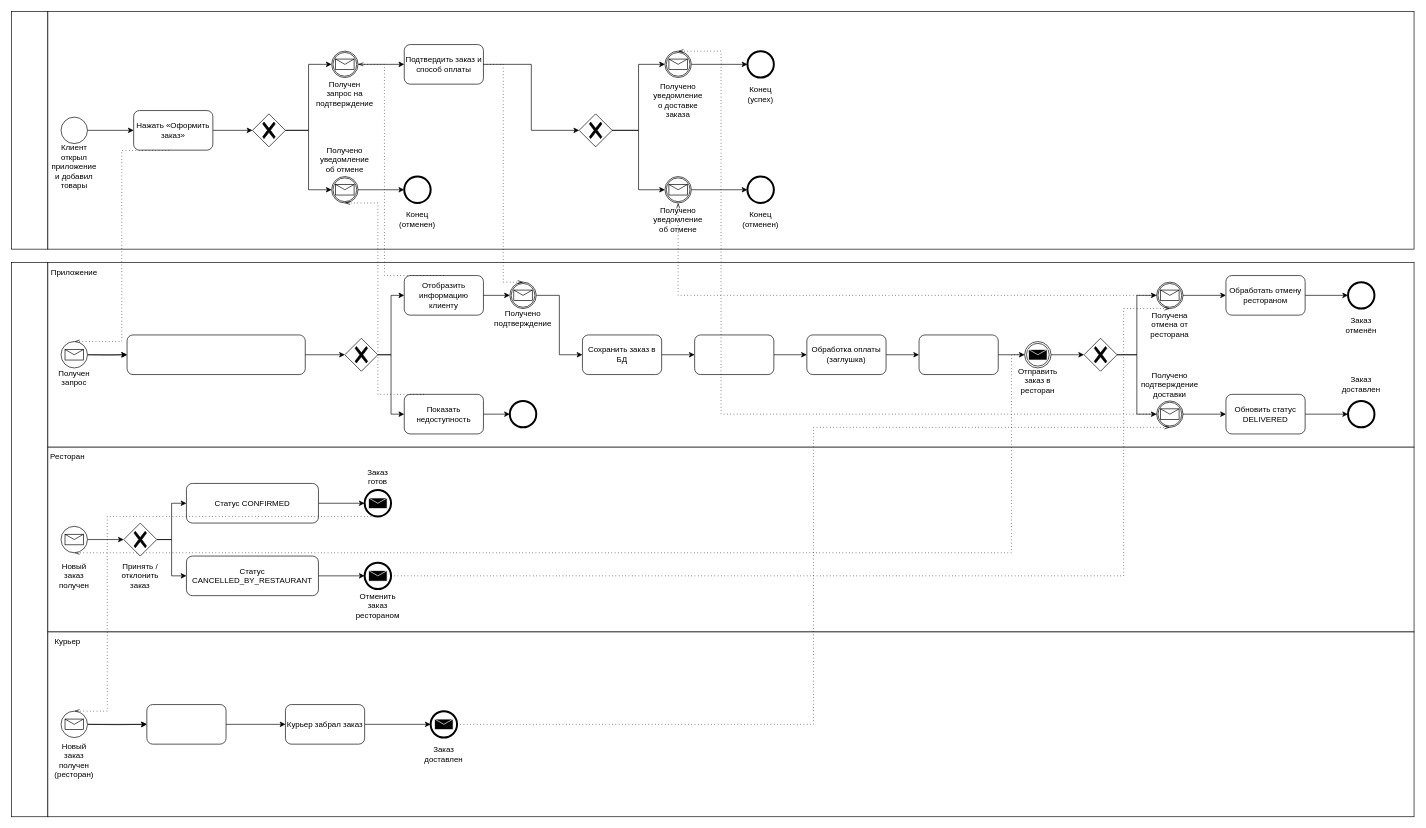
Some shapes in this 1426 by 828 pixel diagram are drawn without their labels. Here are the shapes that lost their labels. From the top down, the centre of each, then its label:
the point at 29,130: Клиент
the point at 215,354: Проверить корзину, р ассчитать стоимость и время
the point at 734,354: Сохранить позиции
the point at 958,354: Зафиксировать заказ
the point at 29,539: Сервис доставки
the point at 186,724: Назначить курьера
